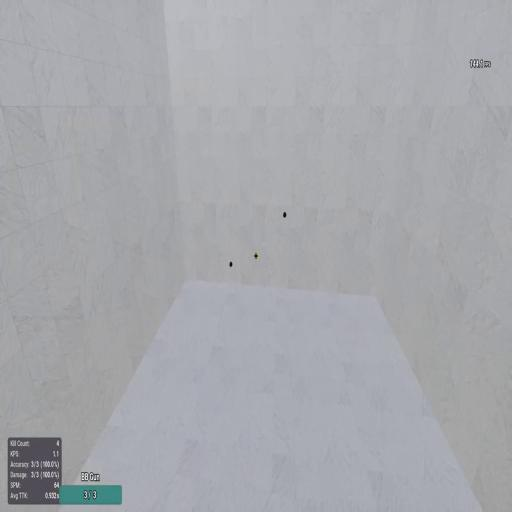Crosshair: (254, 252, 258, 260)
Target: (229, 260, 233, 266), (282, 212, 286, 218)
